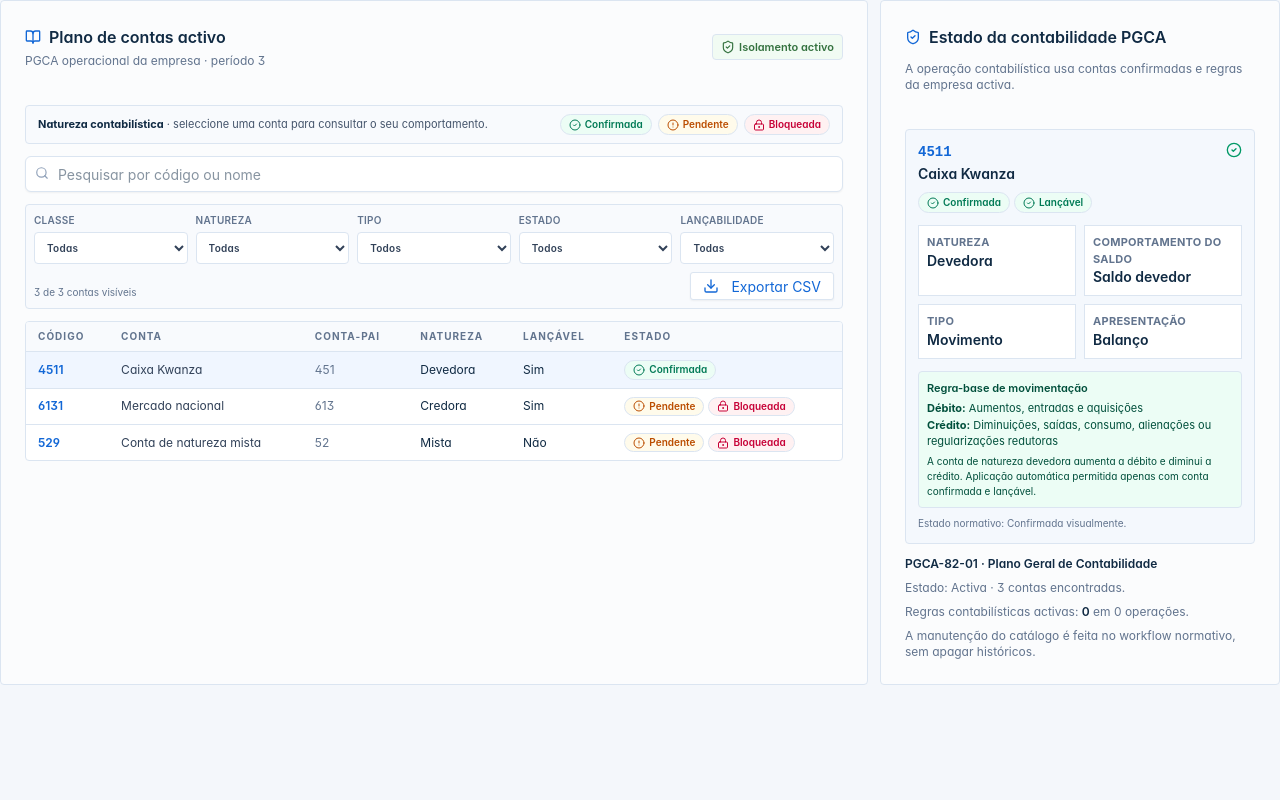
it: protótipo do motor contabilístico › pesquisa contas por código ou nome
In the field named "Pesquisar contas por código ou nome": (434, 174) [25,156,843,192], type "Caixa"
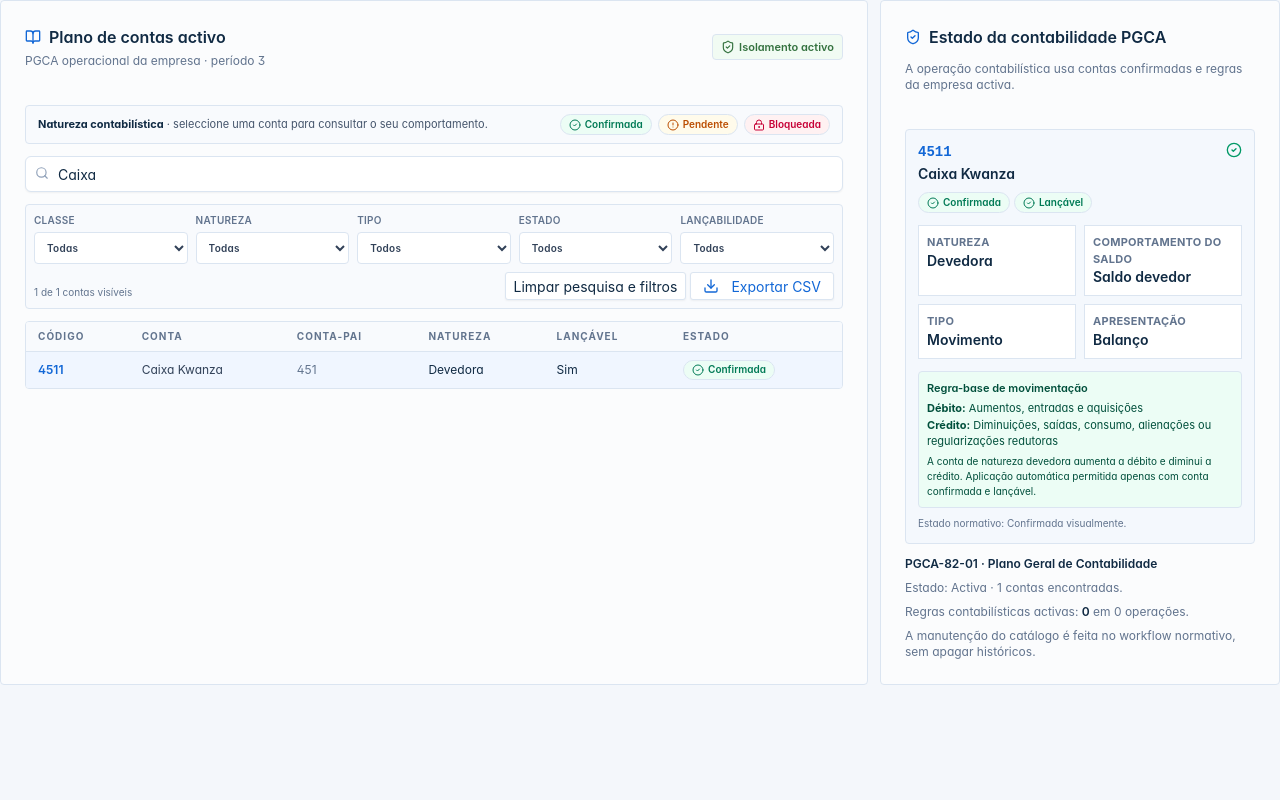
Check: the text "4511" is shown, box [26,352,130,388]
Check: the text "6131" is gone
Check: the text "1 de 1 contas visíveis" is shown, box [34,285,132,300]
